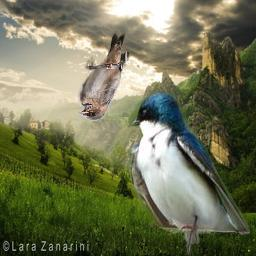Swallow: (128, 89, 250, 255), (78, 33, 130, 121)
